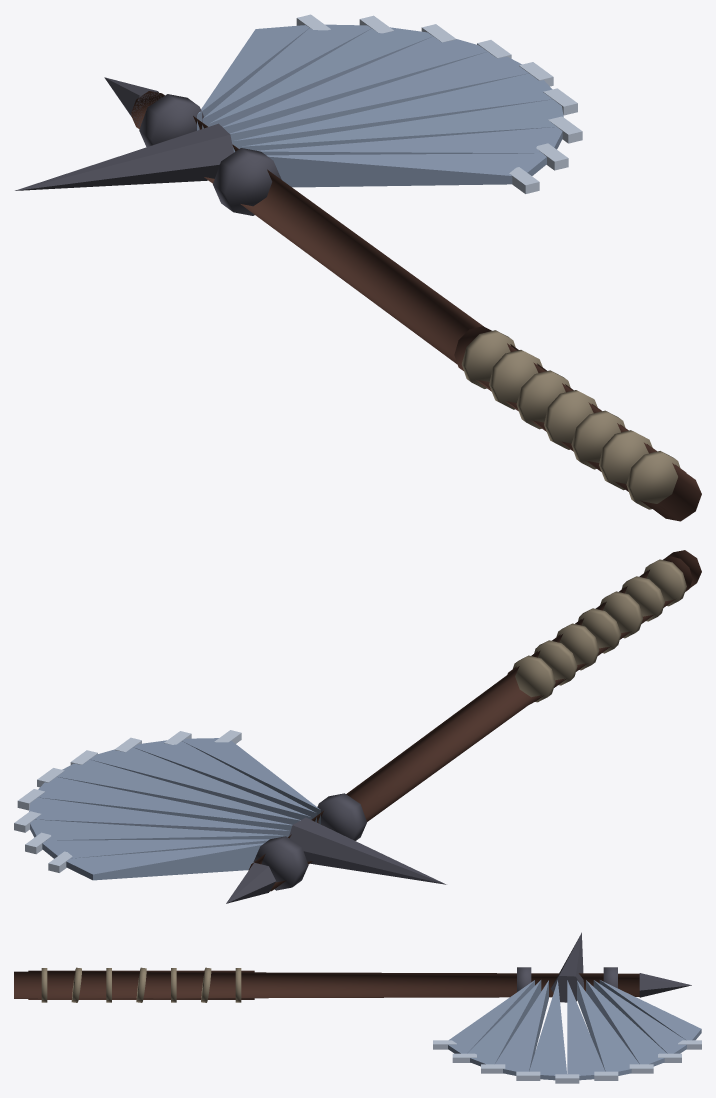
The model's file is weapon_orc_battle_axe.glb.
3 renders of one model, top to bottom at view 1: azimuth 30°, elevation 25°; view 2: azimuth 150°, elevation 25°; view 3: azimuth 270°, elevation 25°, orthographic. The views are drawn at different scales.
Parts seen in each view (by area): view 1: piece; view 2: piece; view 3: piece.
Part boxes in pixels (<box>): piece: <box>15,14,701,521</box>; piece: <box>14,550,701,903</box>; piece: <box>14,932,701,1083</box>.
Bounding box in the file's own units: 0.73 × 0.08 × 1.43.
